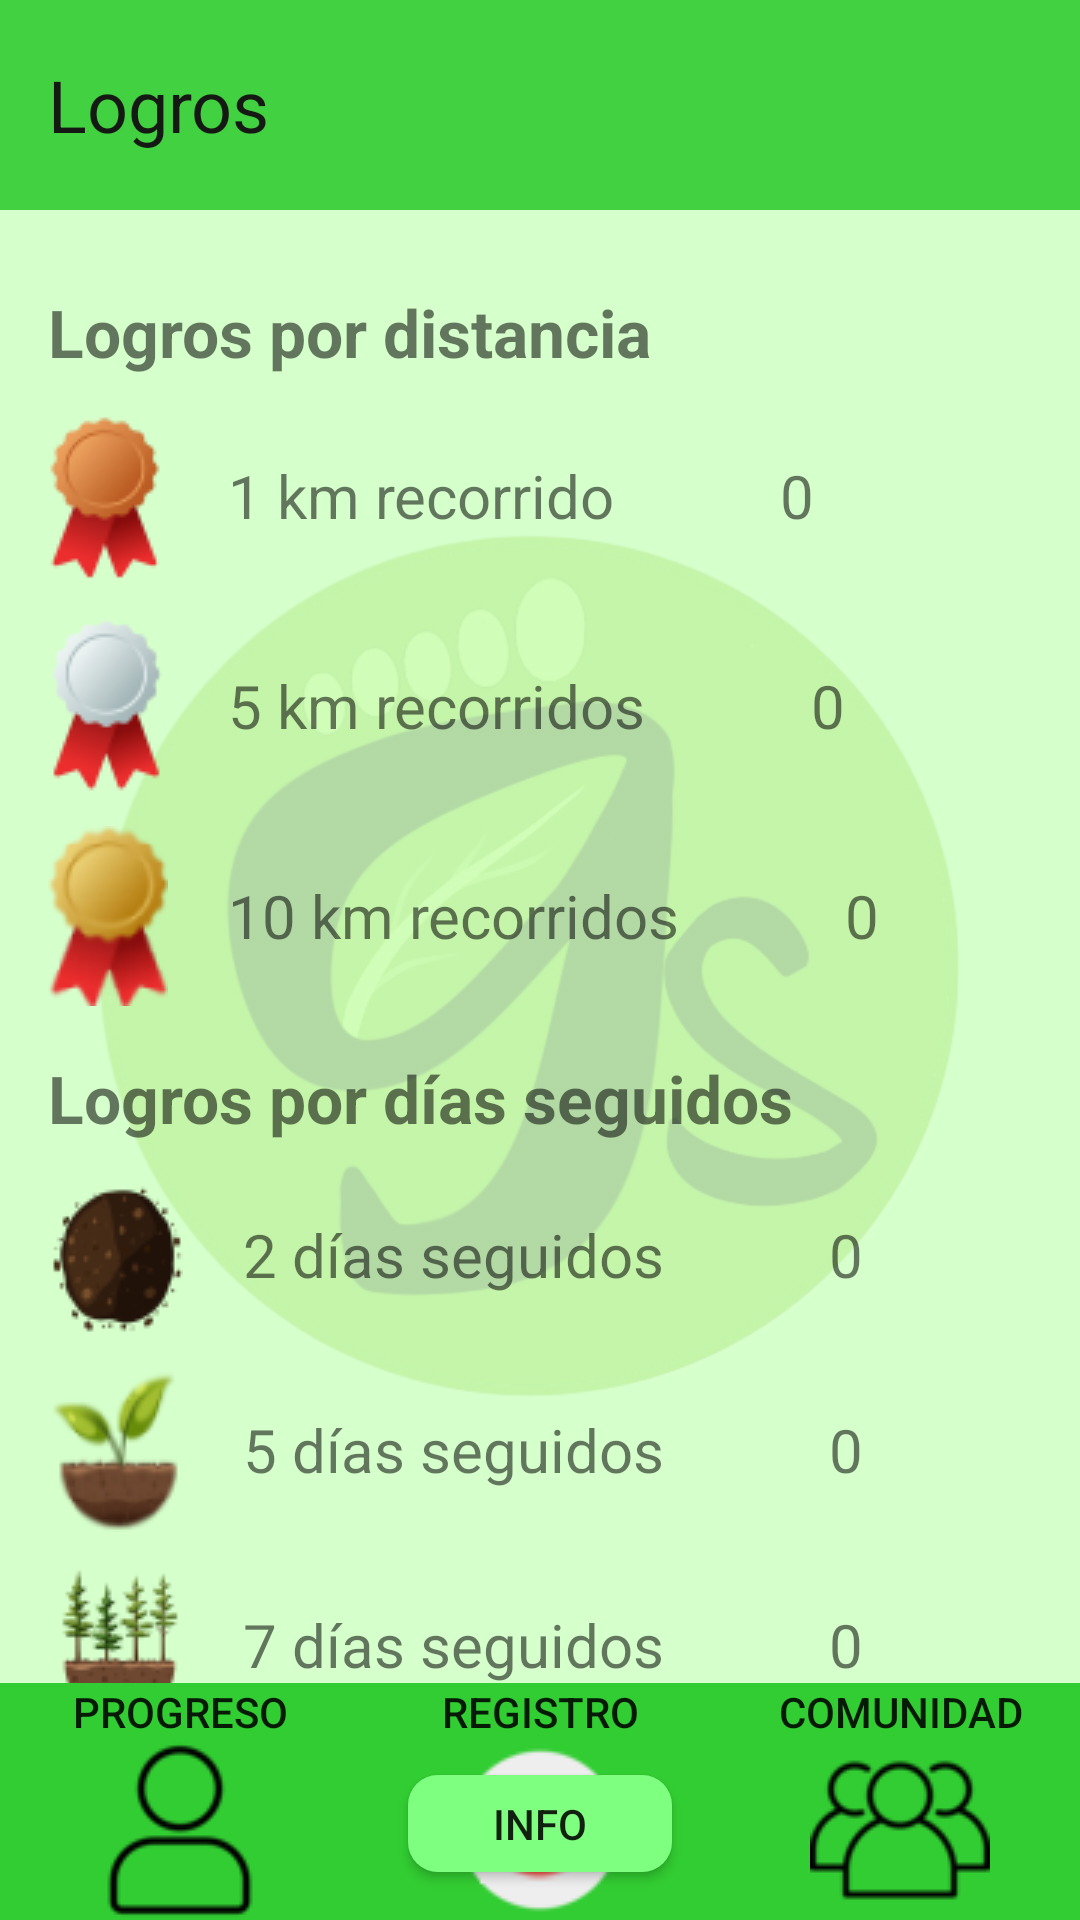

Screen size 1080px x 1920px. Icon name, then its center in pixels as point (x, y):
bronce: point (105, 497)
oro: point (108, 916)
planta: point (116, 1452)
plata: point (110, 709)
semilla: point (118, 1260)
